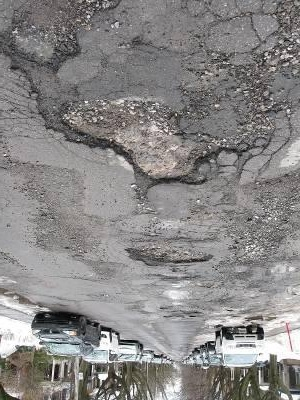pothole: (52, 98, 223, 191), (5, 19, 82, 71), (126, 240, 214, 265)
